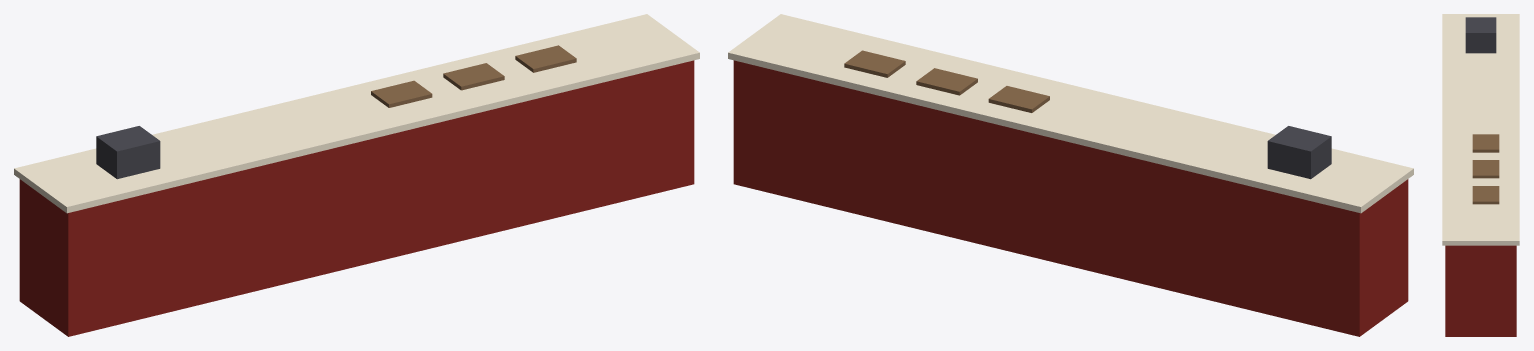
The model's file is food_napoli.glb.
The picture shows the model from 3 angles, left to right: view 1: azimuth 30°, elevation 25°; view 2: azimuth 150°, elevation 25°; view 3: azimuth 270°, elevation 25°; orthographic projection. The views are drawn at different scales.
Visible parts, largest first — view 1: Box1, Box2, Box3, Box4, Box5, Box6; view 2: Box1, Box2, Box3, Box4, Box5, Box6; view 3: Box2, Box1, Box3, Box6, Box4, Box5.
Boxes of the visible parts, x1,y1,x2,y2 form: Box1: (19,60,694,336); Box2: (14,14,699,213); Box3: (96,126,160,179); Box4: (515,45,576,72); Box5: (443,63,504,90); Box6: (371,80,432,107); Box1: (733,60,1408,336); Box2: (728,14,1413,213); Box3: (1267,126,1331,179); Box4: (844,50,905,77); Box5: (916,68,977,95); Box6: (988,86,1049,112); Box2: (1442,14,1519,245); Box1: (1445,245,1516,336); Box3: (1465,17,1496,53); Box6: (1472,134,1499,152); Box4: (1472,186,1499,204); Box5: (1472,160,1499,178).
Bounding box in the file's own units: 5.26 × 1.27 × 0.76.
